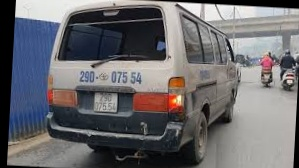Bien-so: (91, 90, 118, 111), (296, 65, 299, 70)
